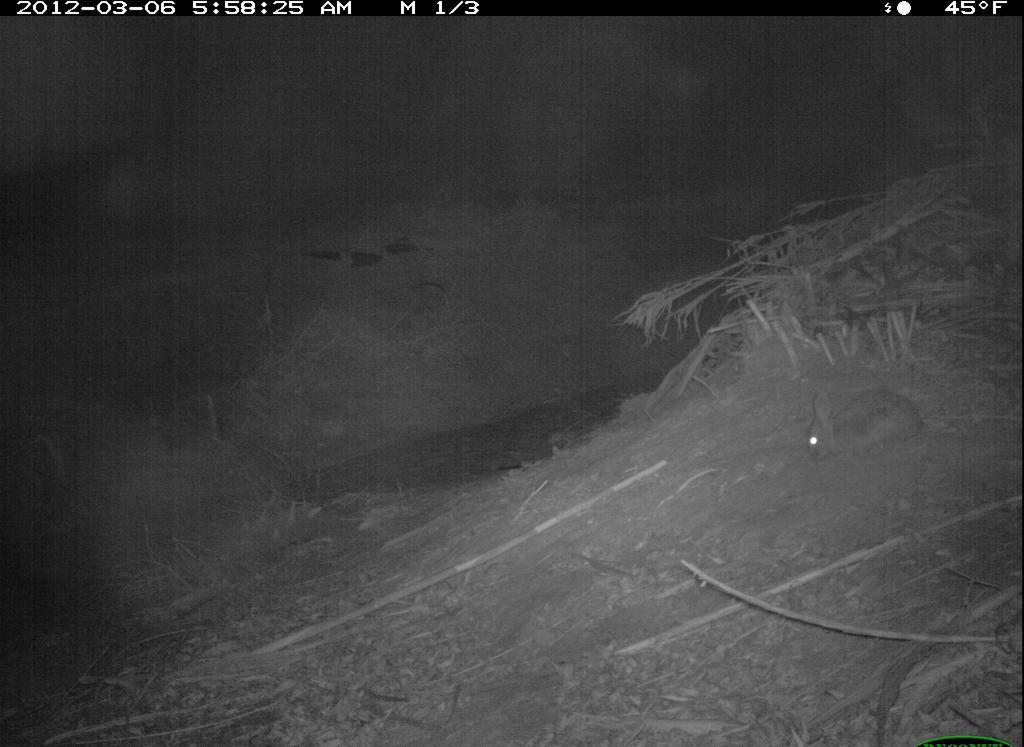rabbit: (798, 382, 939, 472)
